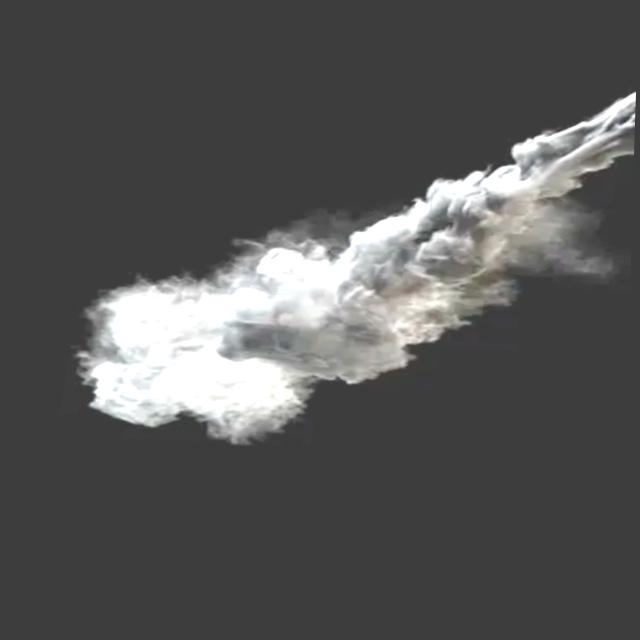no_helmet: (74, 32, 638, 504)
